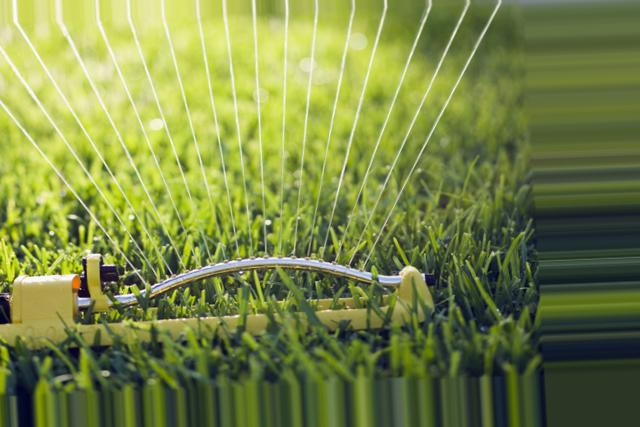patch: (27, 285, 57, 304)
